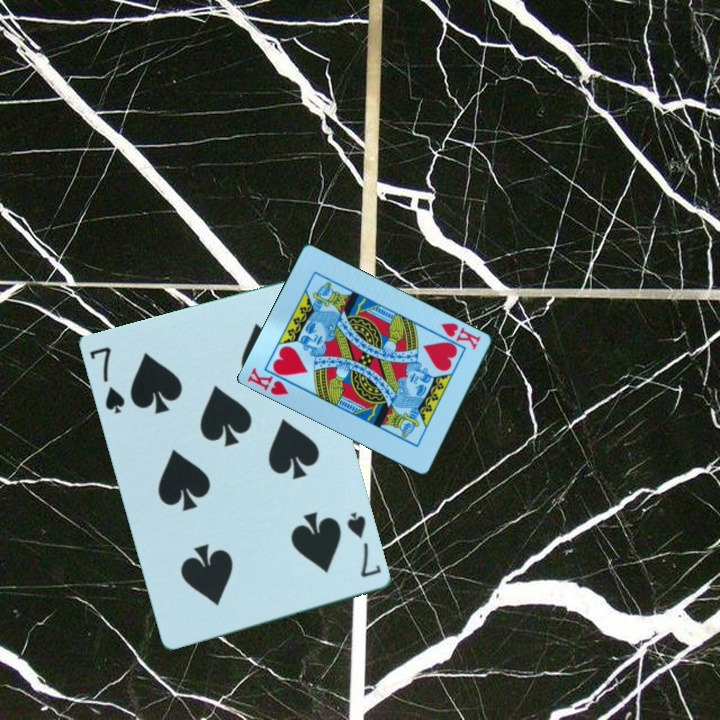7s: (86, 344, 129, 418), (344, 508, 385, 581)
Kh: (244, 363, 292, 398), (438, 319, 484, 353)
